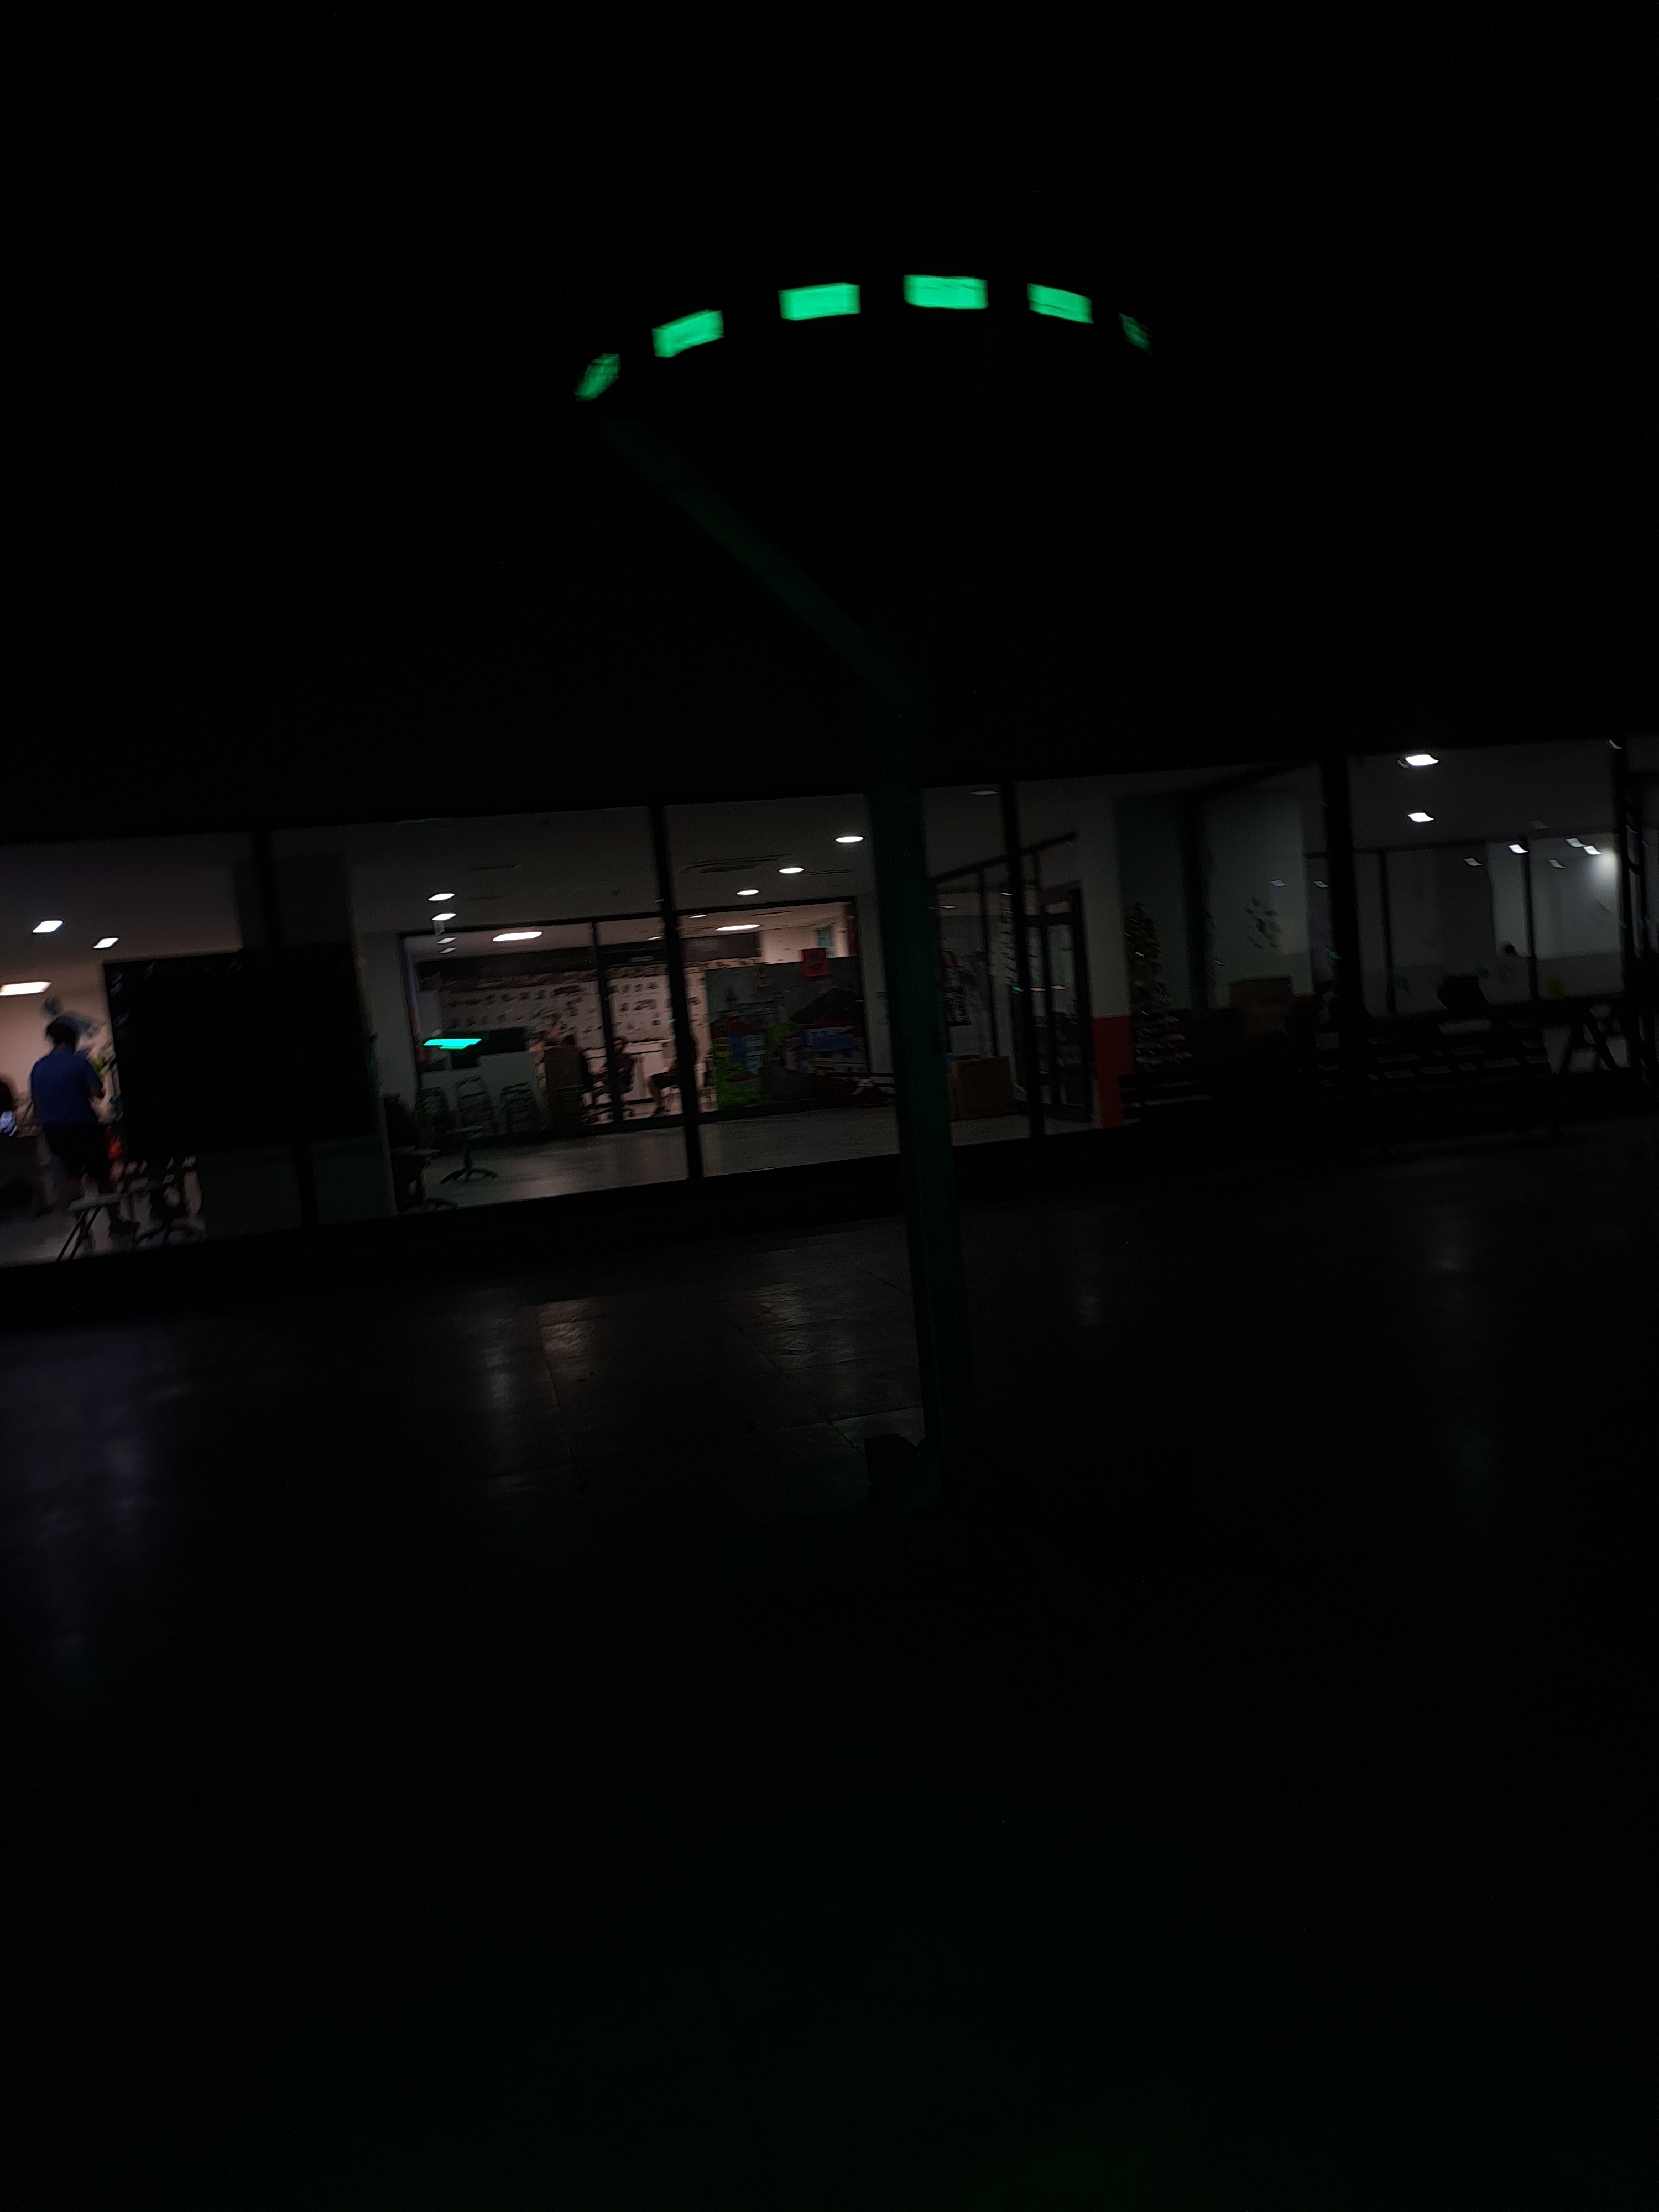hoop: (570, 270, 1157, 399)
